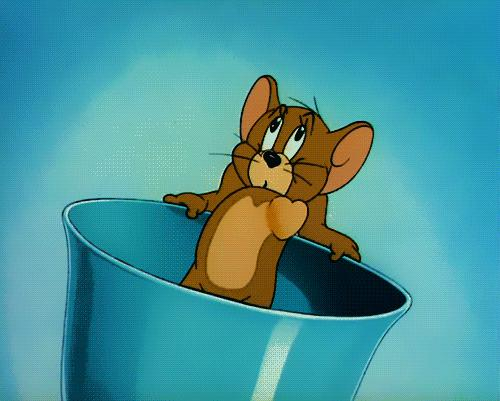jerry: (162, 74, 375, 312)
